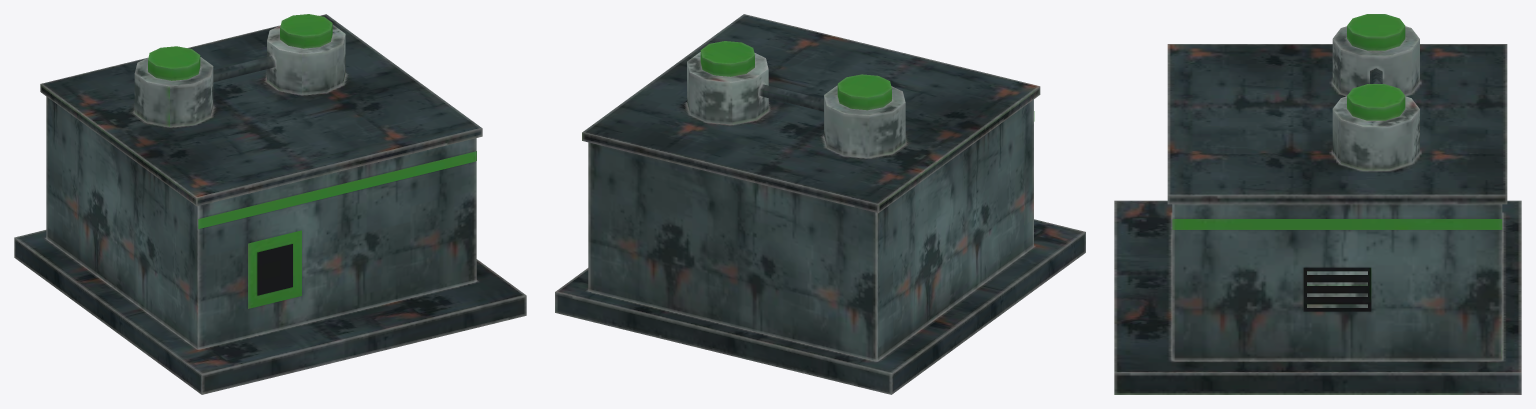
Rendered from sanitation_station.glb.
3 renders of one model, left to right at view 1: azimuth 30°, elevation 25°; view 2: azimuth 150°, elevation 25°; view 3: azimuth 270°, elevation 25°, orthographic. The views are drawn at different scales.
Visible parts, largest first — view 1: te_sanitation_station; view 2: te_sanitation_station; view 3: te_sanitation_station.
Part boxes in pixels (x1,y1,x2,y2): te_sanitation_station: (14, 14, 526, 394); te_sanitation_station: (555, 14, 1085, 394); te_sanitation_station: (1114, 14, 1521, 394).
Size of the model in its own units: 0.84 by 0.56 by 0.84.
Materials: 1 (1 with a texture image).
